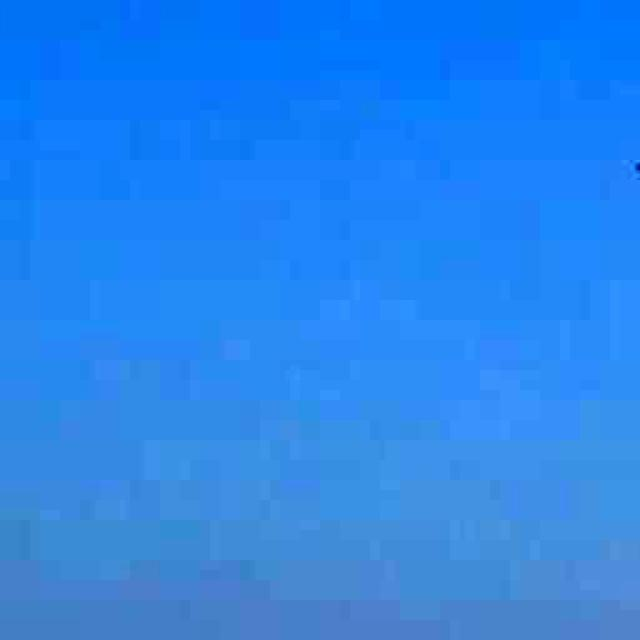bird: (630, 152, 640, 195)
